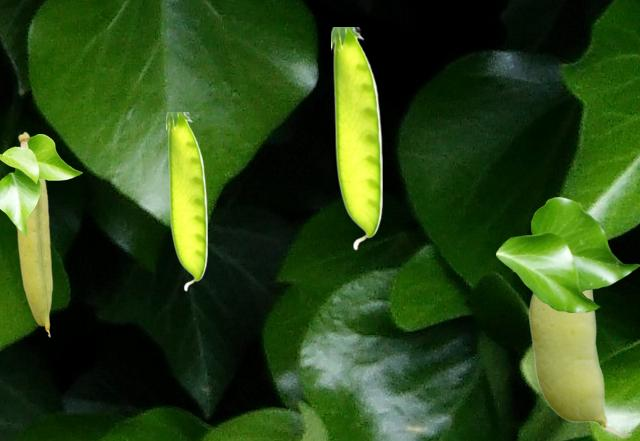pea: (528, 290, 631, 437), (331, 27, 381, 249), (15, 131, 52, 336), (166, 112, 206, 290)
